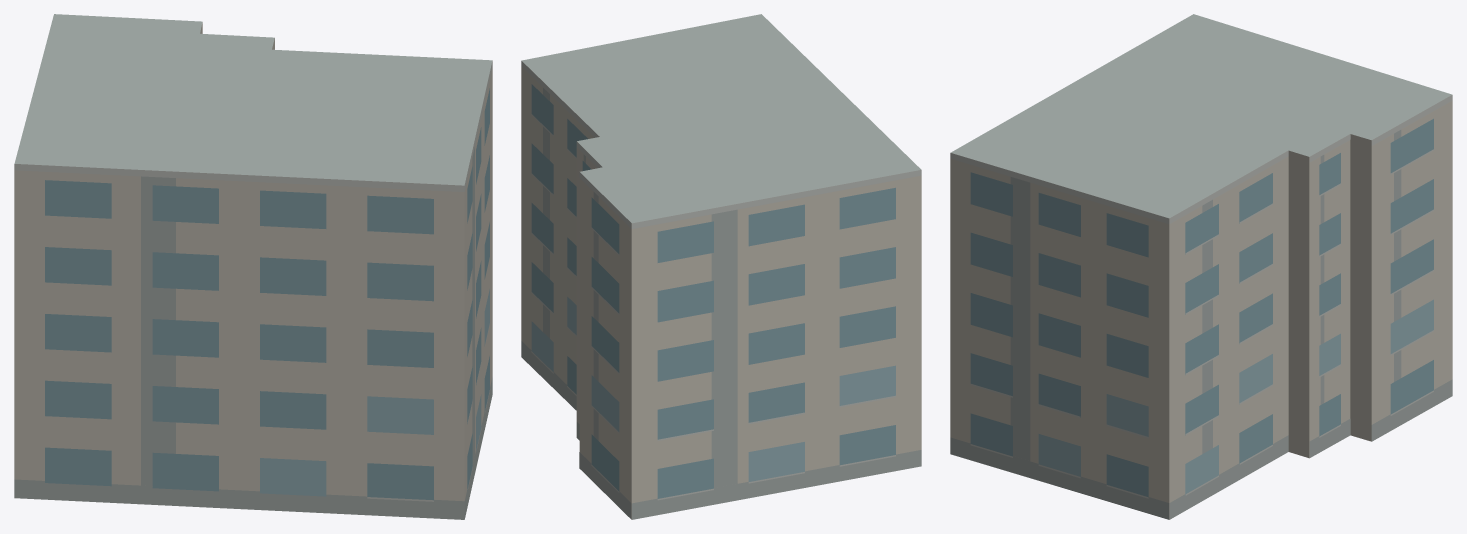
The model's file is survey-upis-32641262.glb.
3 views of the same model, side by side, from view 1: azimuth 30°, elevation 25°; view 2: azimuth 150°, elevation 25°; view 3: azimuth 270°, elevation 25° (orthographic). The views are drawn at different scales.
Visible parts, largest first — view 1: survey-upis-32641262.tmp; view 2: survey-upis-32641262.tmp; view 3: survey-upis-32641262.tmp.
Boxes of the visible parts, x1,y1,x2,y2 form: survey-upis-32641262.tmp: (14,14,492,519); survey-upis-32641262.tmp: (521,14,921,519); survey-upis-32641262.tmp: (950,14,1452,519).
Bounding box in the file's own units: 18.19 × 12.5 × 18.88.
